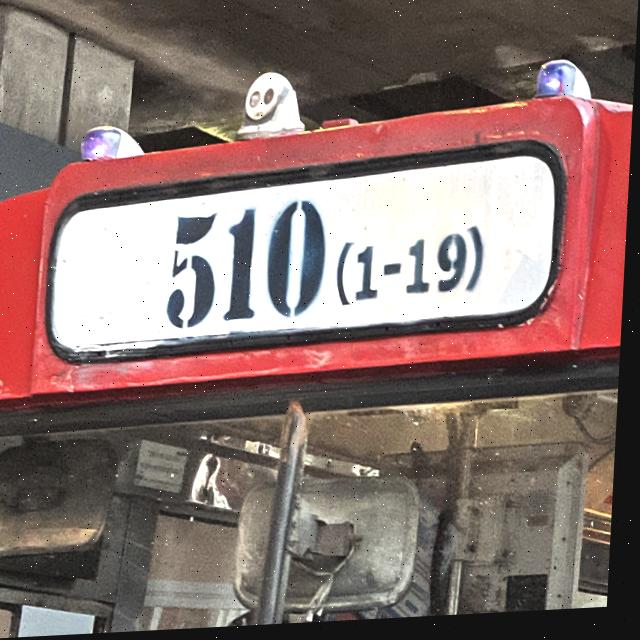BMTA-bus: (0, 48, 637, 640)
Bus-Line-Number: (166, 175, 496, 336)
